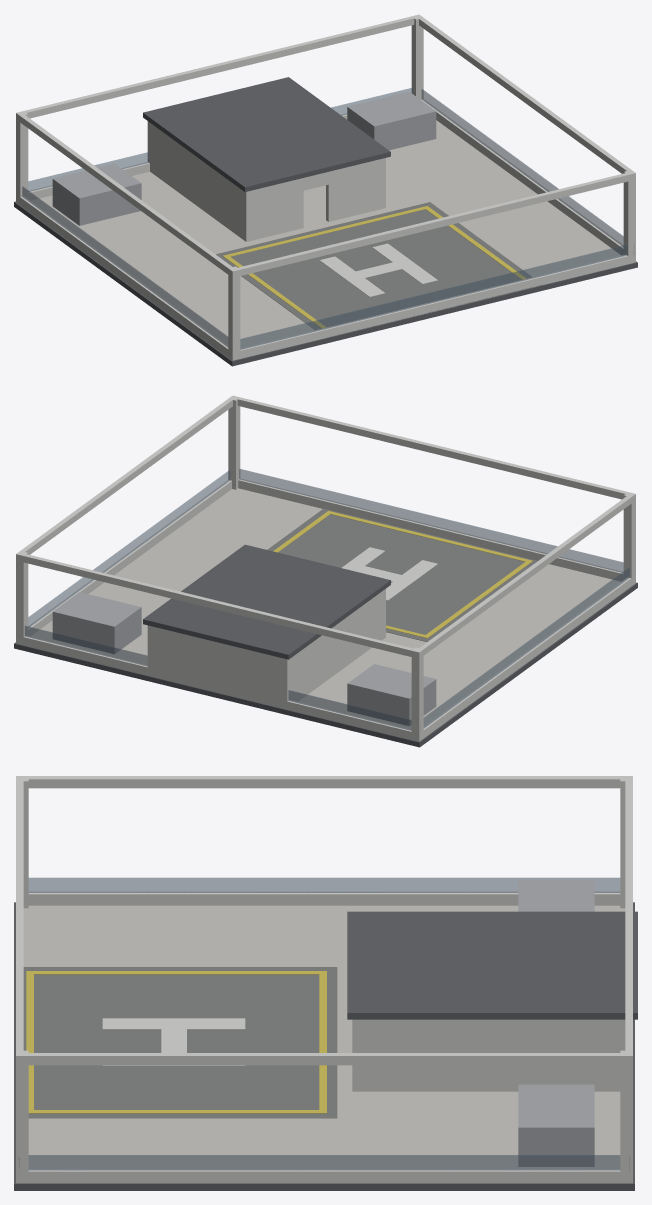
File: condo-roof-a.skyline-v4.lod1.glb
3 renders of one model, top to bottom at view 1: azimuth 30°, elevation 25°; view 2: azimuth 150°, elevation 25°; view 3: azimuth 270°, elevation 25°, orthographic. The views are drawn at different scales.
Visible parts, largest first — view 1: condo-roof-a; view 2: condo-roof-a; view 3: condo-roof-a.
Part boxes in pixels (x1,y1,x2,y2): condo-roof-a: [14, 14, 637, 366]; condo-roof-a: [14, 395, 637, 747]; condo-roof-a: [14, 776, 637, 1190].
Bounding box in the file's own units: 26.16 × 5.8 × 24.48.
